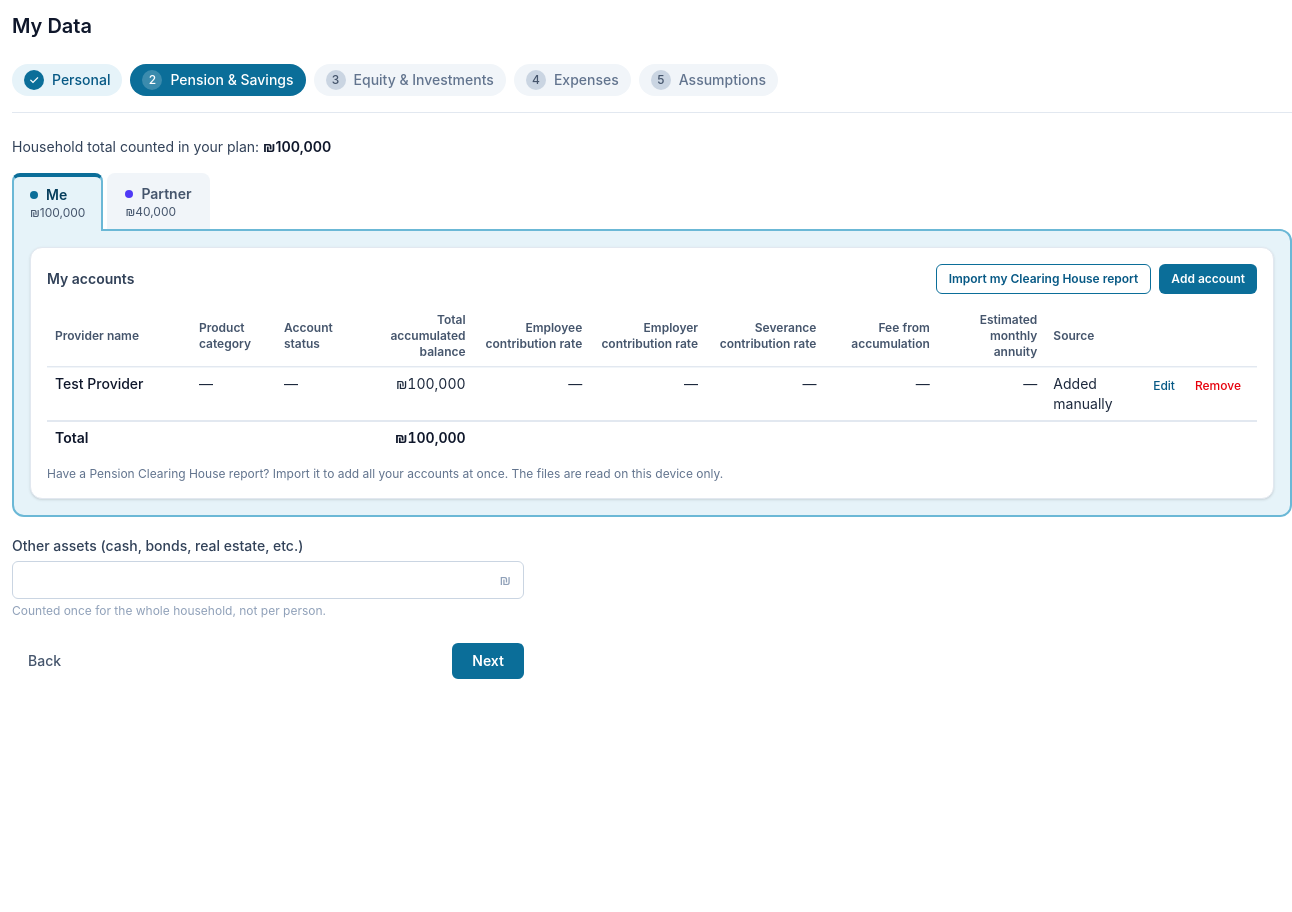
Test: My Data summary tables — Pension & Savings › explains that the partner's accounts are not counted until the partner's age is entered
The image size is (1292, 912).
Expected: the table named "My accounts" is shown, x1=47 y1=306 x2=1257 y2=454
What coordinates should you click on to do the following:
click the tab "Partner ₪40,000"
I would click on:
 (158, 201)
Its box is x1=107 y1=173 x2=210 y2=229.
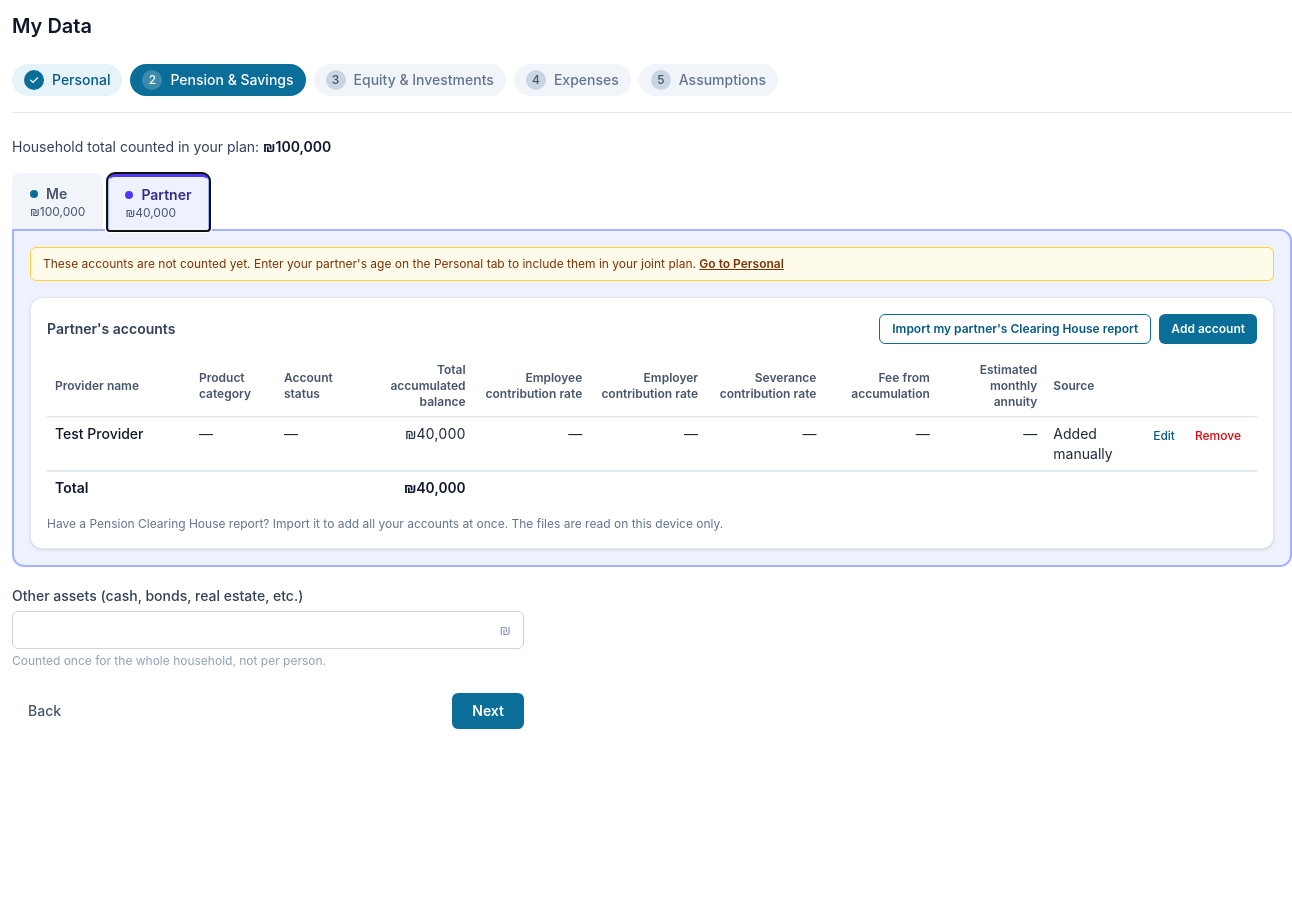
Expected: the text "These accounts are not counted yet" is shown, x1=43 y1=256 x2=696 y2=271
